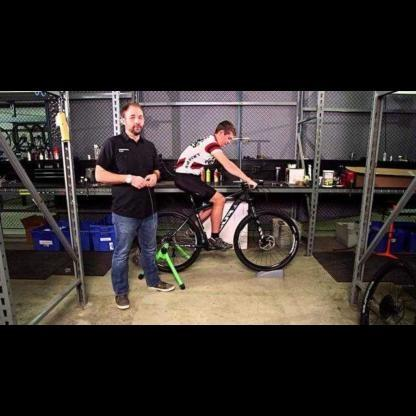Bicycle: (130, 164, 313, 291)
